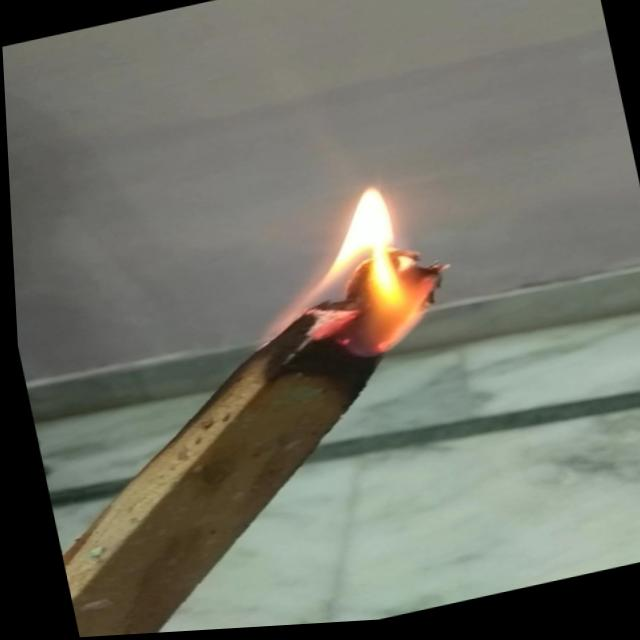fire: (221, 173, 473, 393)
